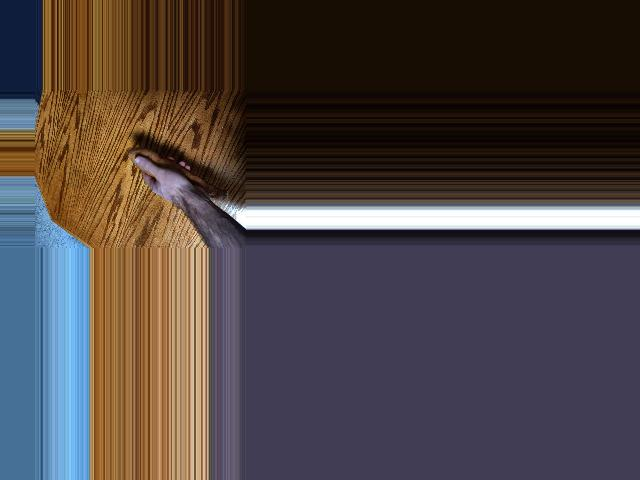sweet_potato: (127, 144, 233, 203)
